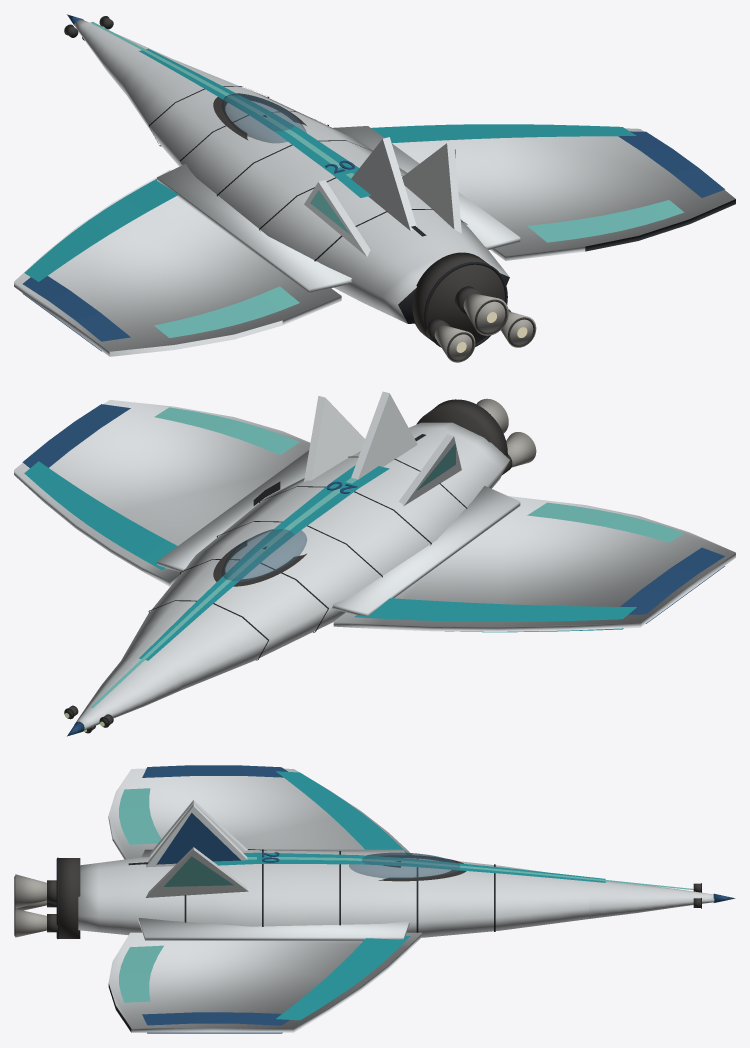
File: Ship_DeltaWing_894551.glb
3 renders of one model, top to bottom at view 1: azimuth 30°, elevation 25°; view 2: azimuth 150°, elevation 25°; view 3: azimuth 270°, elevation 25°, orthographic. The views are drawn at different scales.
Parts seen in each view (by area): view 1: Fuselage_MainWedgeBody, Wing_Left_DeltaAerofoil, Wing_Right_DeltaAerofoil, WingRoot_Left_BlendedShoulder, EngineBlock_AftIntegratedHousing, PaintLeadingEdge_Left_PrimarySharkPanel, PaintLeadingEdge_Right_PrimarySharkPanel, TailFin_Right_SplitCantedStabilizer, PaintStripe_DorsalPrimaryArrow, TailFin_Center_ShortDorsalStabilizer, PaintTrailingNotch_Right_SecondarySharkPanel, PaintTrailingNotch_Left_SecondarySharkPanel (+12 smaller); view 2: Fuselage_MainWedgeBody, Wing_Left_DeltaAerofoil, Wing_Right_DeltaAerofoil, WingRoot_Left_BlendedShoulder, PaintLeadingEdge_Left_PrimarySharkPanel, PaintLeadingEdge_Right_PrimarySharkPanel, Nose_ForwardNeedle, PaintStripe_DorsalPrimaryArrow, CanopyGlass_LowInsetDome, WingRoot_Right_BlendedShoulder, TailFin_Right_SplitCantedStabilizer, TailFin_Center_ShortDorsalStabilizer (+9 smaller); view 3: Fuselage_MainWedgeBody, Wing_Right_DeltaAerofoil, Wing_Left_DeltaAerofoil, WingRoot_Right_BlendedShoulder, PaintLeadingEdge_Right_PrimarySharkPanel, Nose_ForwardNeedle, PaintLeadingEdge_Left_PrimarySharkPanel, PaintStripe_DorsalPrimaryArrow, CanopyGlass_LowInsetDome, TailFin_Center_TrimPatch, PaintTrailingNotch_Right_SecondarySharkPanel, EngineBlock_AftIntegratedHousing (+12 smaller).
Boxes of the visible parts, <box> form: Fuselage_MainWedgeBody: <box>121,58,509,323</box>; Wing_Left_DeltaAerofoil: <box>14,170,341,356</box>; Wing_Right_DeltaAerofoil: <box>392,128,735,260</box>; WingRoot_Left_BlendedShoulder: <box>157,163,352,293</box>; EngineBlock_AftIntegratedHousing: <box>412,252,504,343</box>; PaintLeadingEdge_Left_PrimarySharkPanel: <box>24,179,178,281</box>; PaintLeadingEdge_Right_PrimarySharkPanel: <box>371,124,636,143</box>; TailFin_Right_SplitCantedStabilizer: <box>402,141,461,233</box>; PaintStripe_DorsalPrimaryArrow: <box>139,48,371,197</box>; TailFin_Center_ShortDorsalStabilizer: <box>351,137,416,230</box>; PaintTrailingNotch_Right_SecondarySharkPanel: <box>527,200,684,242</box>; PaintTrailingNotch_Left_SecondarySharkPanel: <box>154,286,299,337</box>; Fuselage_MainWedgeBody: <box>121,422,509,690</box>; Wing_Left_DeltaAerofoil: <box>333,496,735,631</box>; Wing_Right_DeltaAerofoil: <box>14,400,310,586</box>; WingRoot_Left_BlendedShoulder: <box>331,485,520,616</box>; PaintLeadingEdge_Left_PrimarySharkPanel: <box>354,598,636,621</box>; PaintLeadingEdge_Right_PrimarySharkPanel: <box>24,461,177,570</box>; Nose_ForwardNeedle: <box>74,653,185,730</box>; PaintStripe_DorsalPrimaryArrow: <box>139,465,389,660</box>; CanopyGlass_LowInsetDome: <box>222,529,306,582</box>; WingRoot_Right_BlendedShoulder: <box>157,450,309,571</box>; TailFin_Right_SplitCantedStabilizer: <box>304,396,364,481</box>; TailFin_Center_ShortDorsalStabilizer: <box>351,391,417,479</box>; Fuselage_MainWedgeBody: <box>78,850,588,937</box>; Wing_Right_DeltaAerofoil: <box>108,932,421,1032</box>; Wing_Left_DeltaAerofoil: <box>108,768,411,859</box>; WingRoot_Right_BlendedShoulder: <box>138,918,409,940</box>; PaintLeadingEdge_Right_PrimarySharkPanel: <box>276,935,410,1020</box>; Nose_ForwardNeedle: <box>589,881,714,918</box>; PaintLeadingEdge_Left_PrimarySharkPanel: <box>276,771,408,854</box>; PaintStripe_DorsalPrimaryArrow: <box>213,852,605,882</box>; CanopyGlass_LowInsetDome: <box>349,852,459,879</box>; TailFin_Center_TrimPatch: <box>156,813,240,864</box>; PaintTrailingNotch_Right_SecondarySharkPanel: <box>119,945,163,1002</box>; EngineBlock_AftIntegratedHousing: <box>58,858,80,938</box>.
Bounding box in the file's own units: 6.51 × 1.53 × 7.66.
